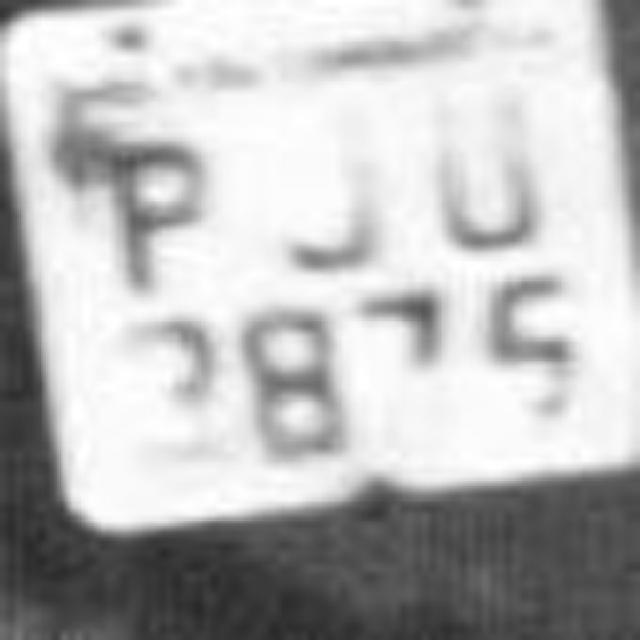3: (84, 284, 264, 504)
5: (452, 245, 612, 440)
7: (328, 269, 484, 456)
8: (212, 268, 376, 488)
J: (240, 116, 412, 284)
P: (68, 116, 220, 312)
U: (388, 69, 568, 276)
